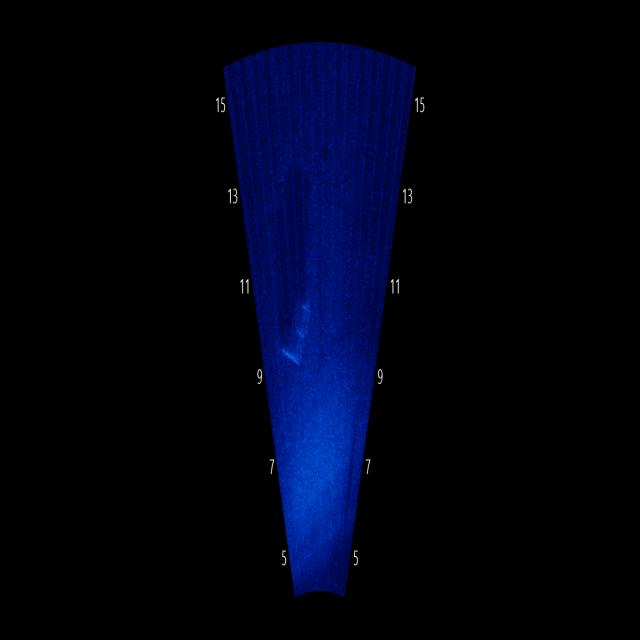square: (267, 273, 329, 381)
